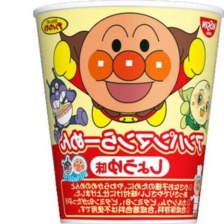paper_cup: (29, 0, 224, 224)
